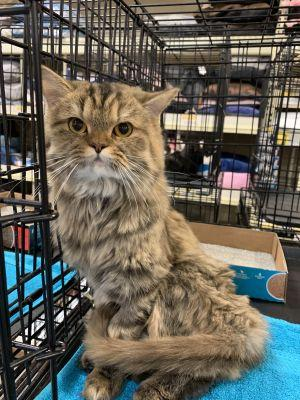persian: (36, 58, 181, 199)
